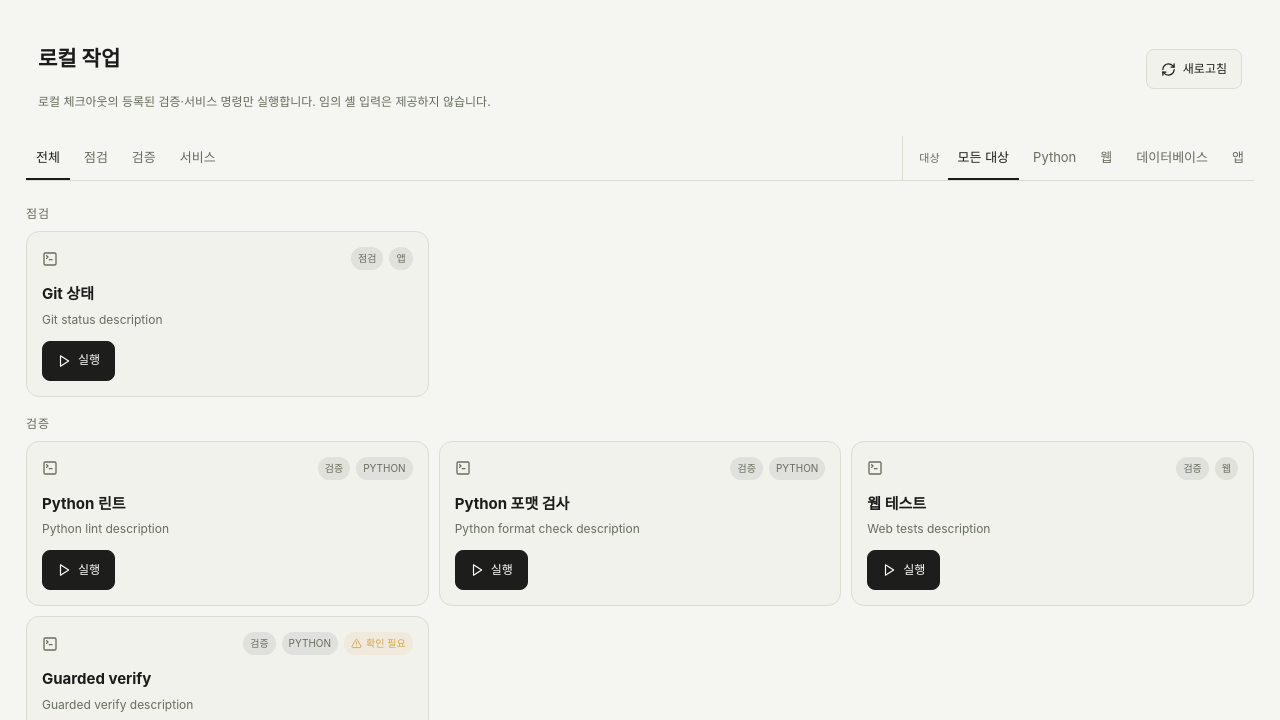
Test case: Operations › renders Korean group headings, filter and confirmation badge
Expected: the element named "명령 유형" is shown, [26,136,226,180]
Expected: the button "데이터베이스" is shown, [1126,136,1218,180]
Click the button "웹" at (1106, 158), box [1090,136,1122,180]
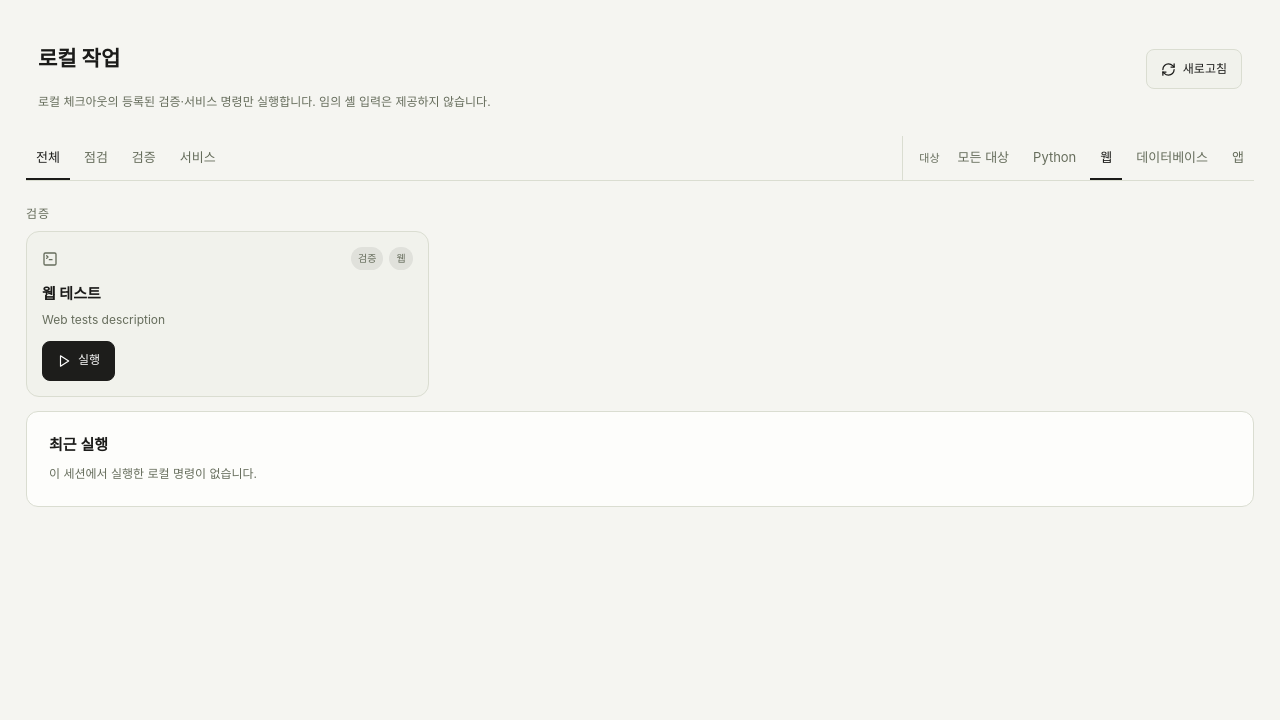
Expected: the text with class "target" reads "웹", [396,252,406,264]
Expected: the number of elements with class "command-card" is 1, [26,231,429,397]
